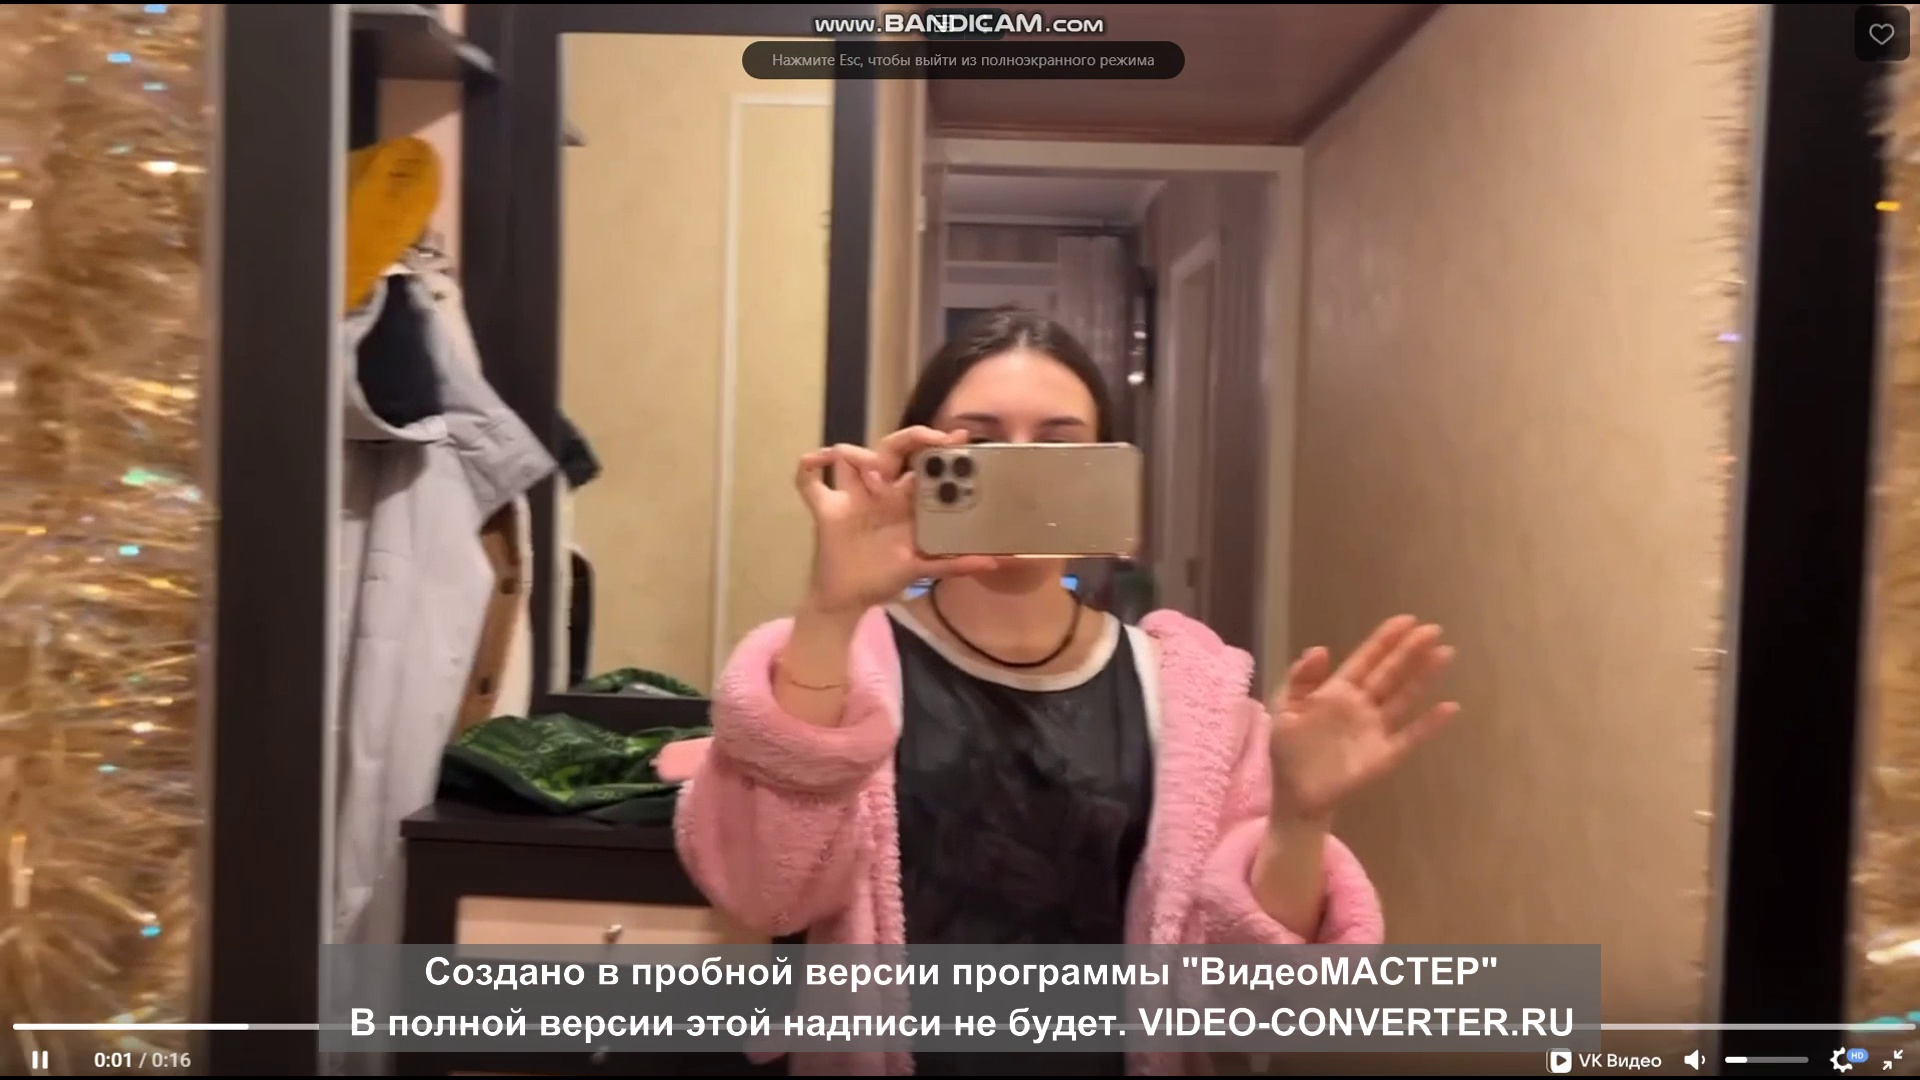Ладонь: (1266, 608, 1464, 806)
